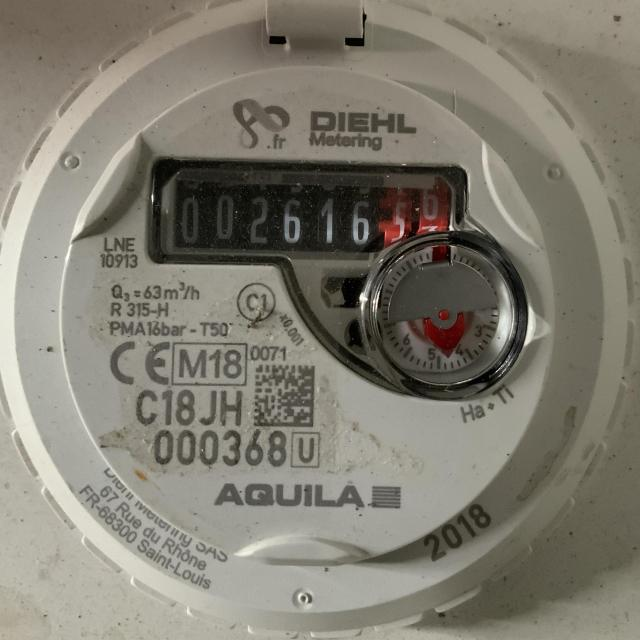gaz_meter: (59, 69, 560, 562)
indication: (159, 166, 462, 269)
